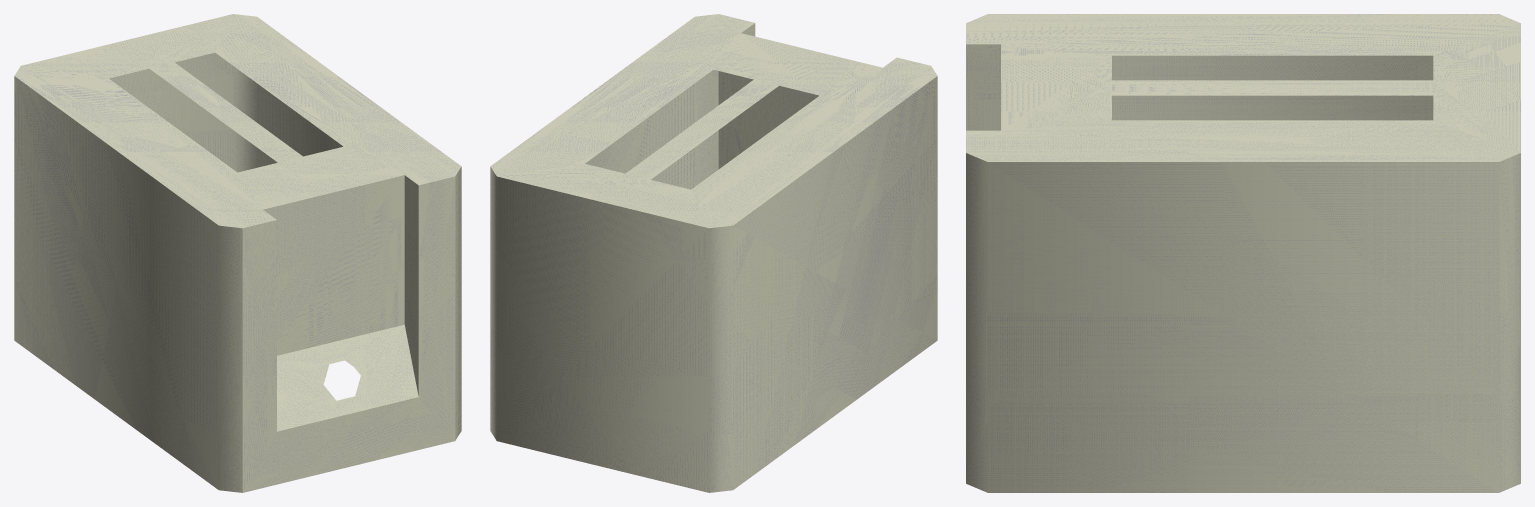
The model's file is original-4.obj.
3 views of the same model, side by side, from view 1: azimuth 30°, elevation 25°; view 2: azimuth 150°, elevation 25°; view 3: azimuth 270°, elevation 25° (orthographic). The views are drawn at different scales.
Visible parts, largest first — view 1: mesh3/mesh3-geometry/material_2#mesh3-geometry; view 2: mesh3/mesh3-geometry/material_2#mesh3-geometry; view 3: mesh3/mesh3-geometry/material_2#mesh3-geometry.
Boxes of the visible parts, left/top/right/bottom form: mesh3/mesh3-geometry/material_2#mesh3-geometry: left=14, top=14, right=461, bottom=492; mesh3/mesh3-geometry/material_2#mesh3-geometry: left=490, top=14, right=937, bottom=492; mesh3/mesh3-geometry/material_2#mesh3-geometry: left=966, top=14, right=1520, bottom=492.
Bounding box in the file's own units: 0.9465 × 0.9859 × 1.5.
